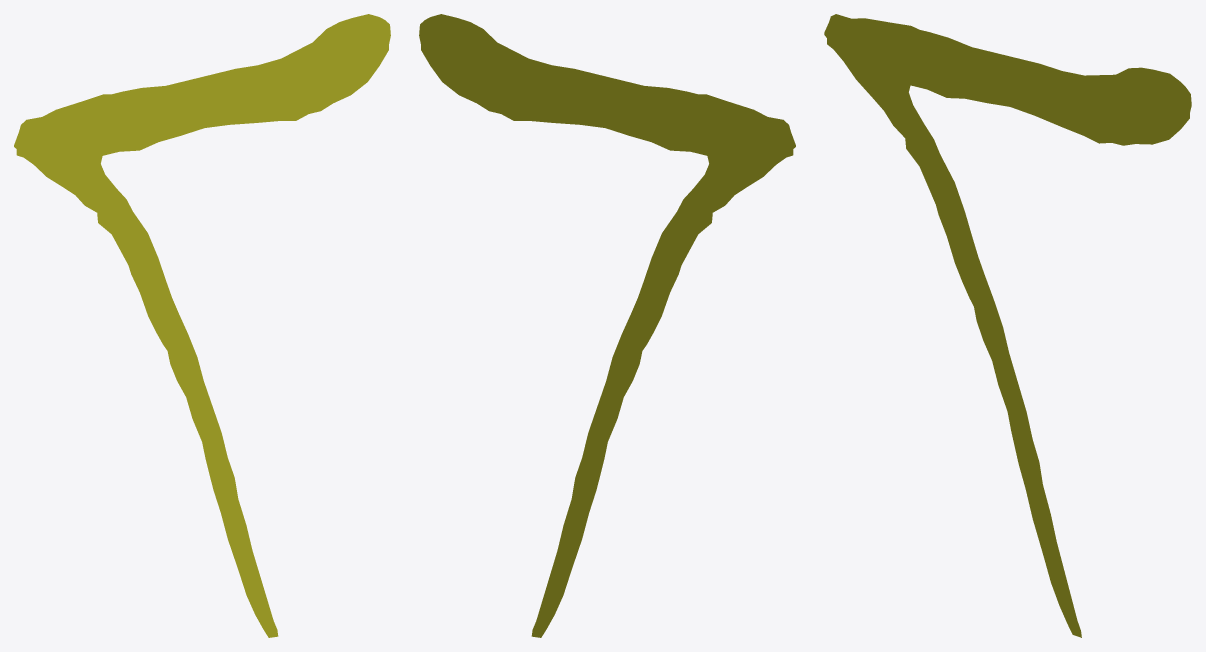
File: seven.obj
The picture shows the model from 3 angles, left to right: view 1: azimuth 30°, elevation 25°; view 2: azimuth 150°, elevation 25°; view 3: azimuth 330°, elevation 25°; orthographic projection. The views are drawn at different scales.
Visible parts, largest first — view 1: seven.001; view 2: seven.001; view 3: seven.001.
Part boxes in pixels (bbox=[...]): seven.001: bbox=[14, 14, 390, 637]; seven.001: bbox=[419, 14, 795, 637]; seven.001: bbox=[824, 14, 1191, 637].
Size of the model in its own units: 0.3512 by 0.5349 by 0.
